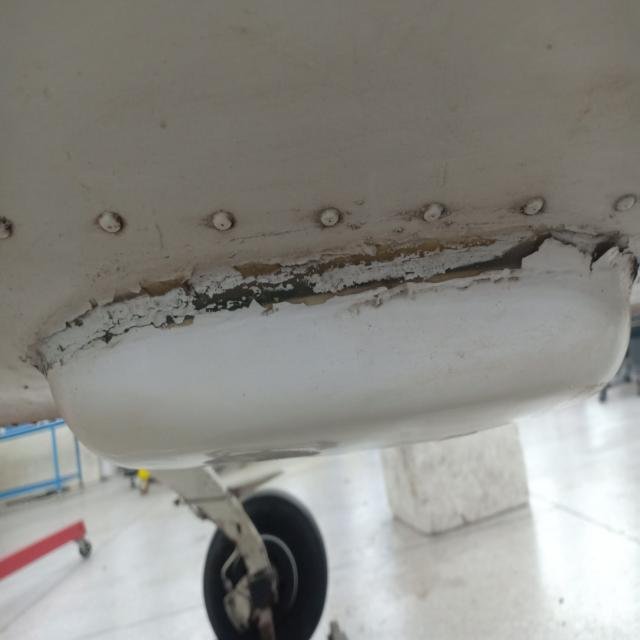Rupture: (53, 155, 640, 330)
